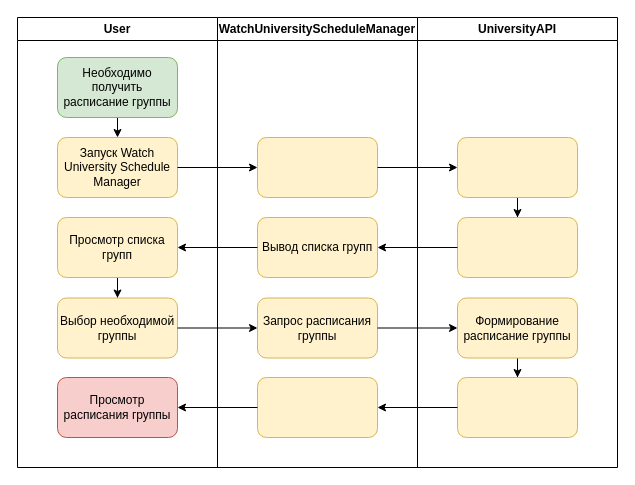
Some shapes in this 635 by 485 pixel diagram are drawn without their labels. Here are the shapes that lost their labels. From the top down, the centre of each, then its label:
At point (317, 167): "Запрос списка групп".
At point (517, 167): "Формирование списка групп".
At point (517, 247): "Возвращения списка групп".
At point (317, 407): "Вывод расписания группы".
At point (517, 407): "Возвращение расписания группы".
